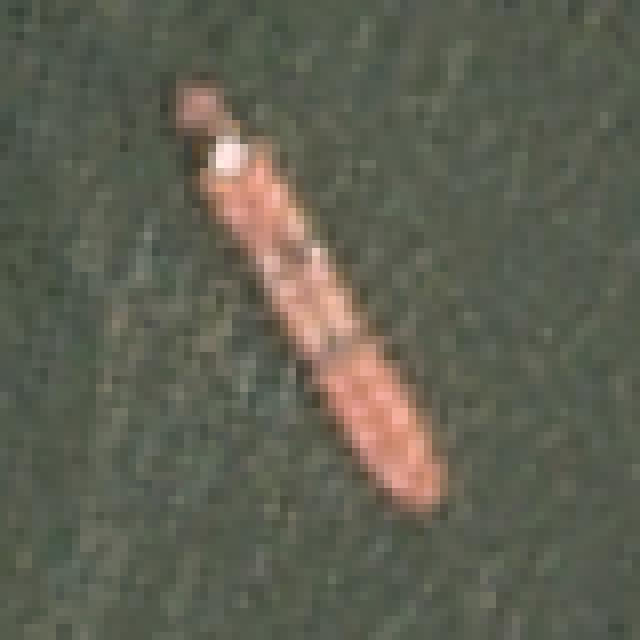ship: (153, 72, 499, 535)
